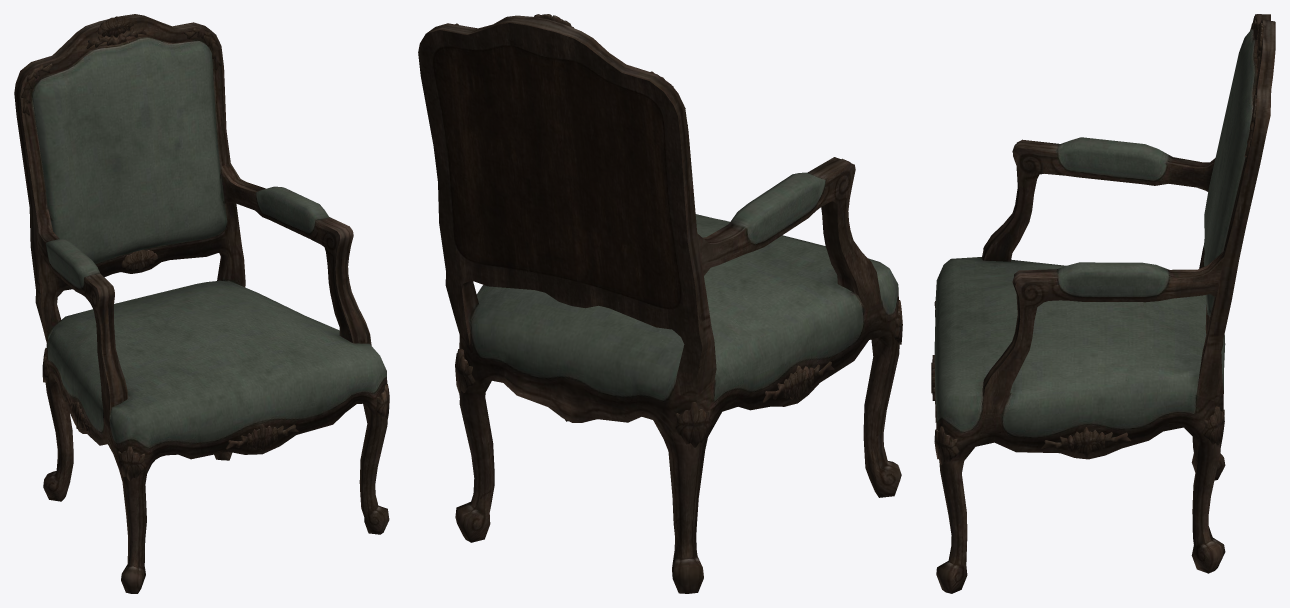
File: GreenChair_01.glb
3 renders of one model, left to right at view 1: azimuth 30°, elevation 25°; view 2: azimuth 150°, elevation 25°; view 3: azimuth 270°, elevation 25°, orthographic. The views are drawn at different scales.
Visible parts, largest first — view 1: GreenChair_01; view 2: GreenChair_01; view 3: GreenChair_01.
Part boxes in pixels (x1=…): GreenChair_01: x1=14, y1=14, x2=389, y2=593; GreenChair_01: x1=418, y1=14, x2=902, y2=593; GreenChair_01: x1=931, y1=14, x2=1275, y2=593.
Bounding box in the file's own units: 0.6732 × 1.06 × 0.6644.
1 material, 1 textured.
